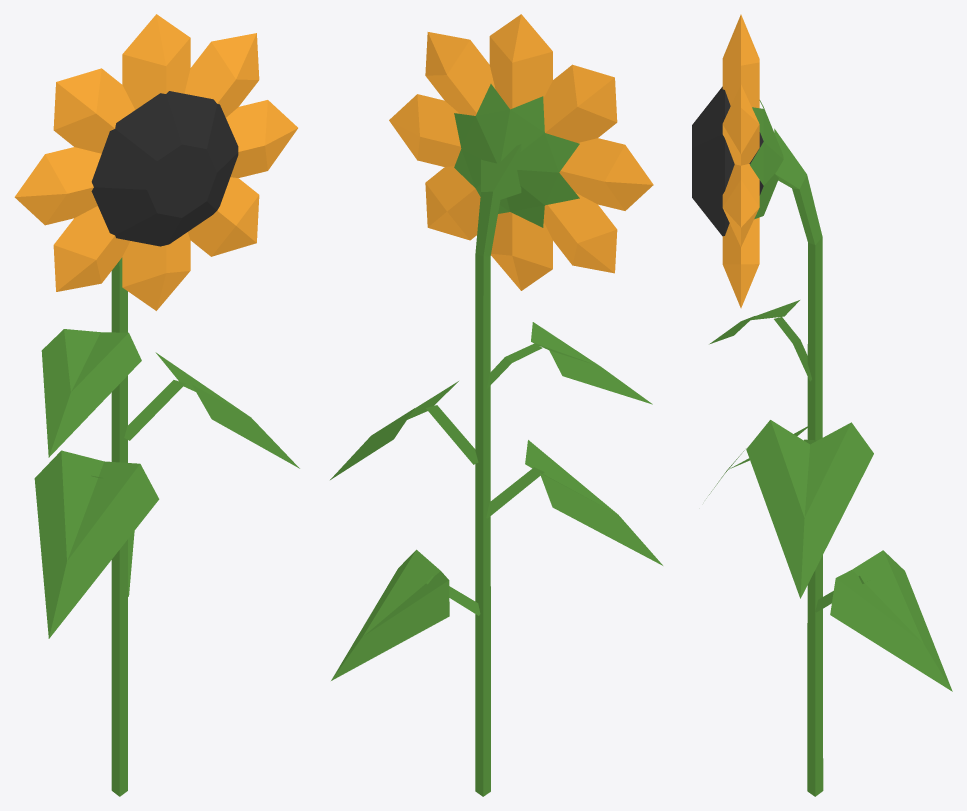
Rendered from sunflower.glb.
The picture shows the model from 3 angles, left to right: view 1: azimuth 30°, elevation 25°; view 2: azimuth 150°, elevation 25°; view 3: azimuth 270°, elevation 25°; orthographic projection. The views are drawn at different scales.
Visible parts, largest first — view 1: sunflower; view 2: sunflower; view 3: sunflower.
Boxes of the visible parts, x1,y1,x2,y2 form: sunflower: (14, 14, 299, 796); sunflower: (330, 14, 662, 796); sunflower: (692, 14, 952, 796).
Size of the model in its own units: 0.7035 by 1.71 by 0.5234.
1 material, 1 textured.
